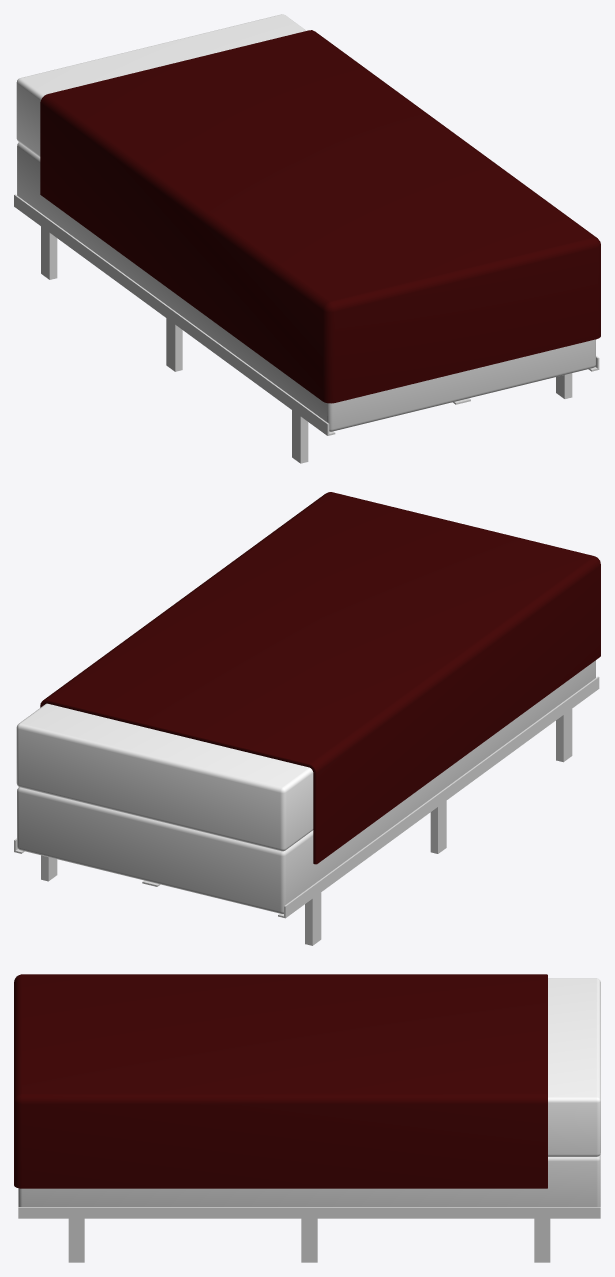
Rendered from Single Bed.fbx.
The picture shows the model from 3 angles, top to bottom: view 1: azimuth 30°, elevation 25°; view 2: azimuth 150°, elevation 25°; view 3: azimuth 270°, elevation 25°; orthographic projection. The views are drawn at different scales.
Parts seen in each view (by area): view 1: Blanket, Box Spring, Sheet, Frame; view 2: Blanket, Sheet, Box Spring, Frame; view 3: Blanket, Box Spring, Sheet, Frame.
Part boxes in pixels (bbox=[...]): Blanket: bbox=[40, 30, 600, 403]; Box Spring: bbox=[17, 142, 595, 431]; Sheet: bbox=[16, 14, 306, 157]; Frame: bbox=[14, 194, 599, 463]; Blanket: bbox=[40, 492, 600, 864]; Sheet: bbox=[16, 703, 313, 851]; Box Spring: bbox=[17, 660, 595, 913]; Frame: bbox=[14, 676, 599, 945]; Blanket: bbox=[14, 974, 547, 1188]; Box Spring: bbox=[18, 1154, 600, 1206]; Sheet: bbox=[548, 978, 600, 1156]; Frame: bbox=[18, 1207, 600, 1262].
Size of the model in its own units: 9.18 by 5.69 by 18.15.
